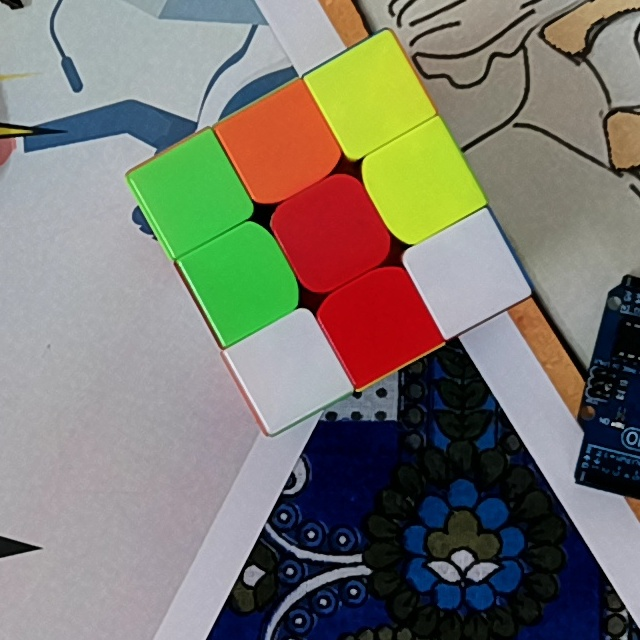tile: (384, 148, 457, 219), (340, 289, 413, 359), (205, 244, 277, 314), (296, 198, 368, 267), (333, 60, 405, 128), (432, 239, 501, 307), (156, 160, 226, 227), (252, 107, 317, 178), (257, 334, 323, 402)
